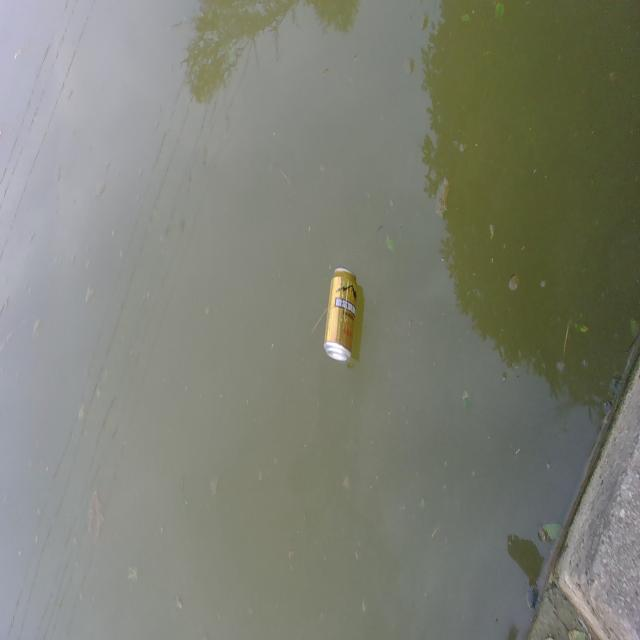Can: (323, 262, 360, 367)
